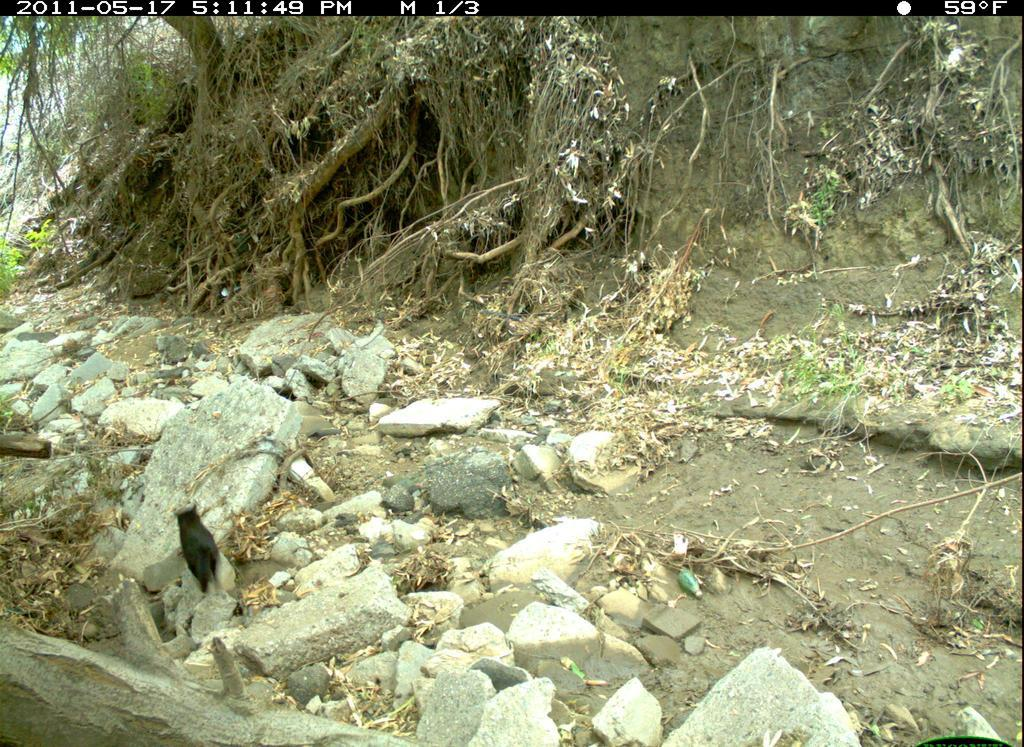cat: (173, 502, 226, 600)
